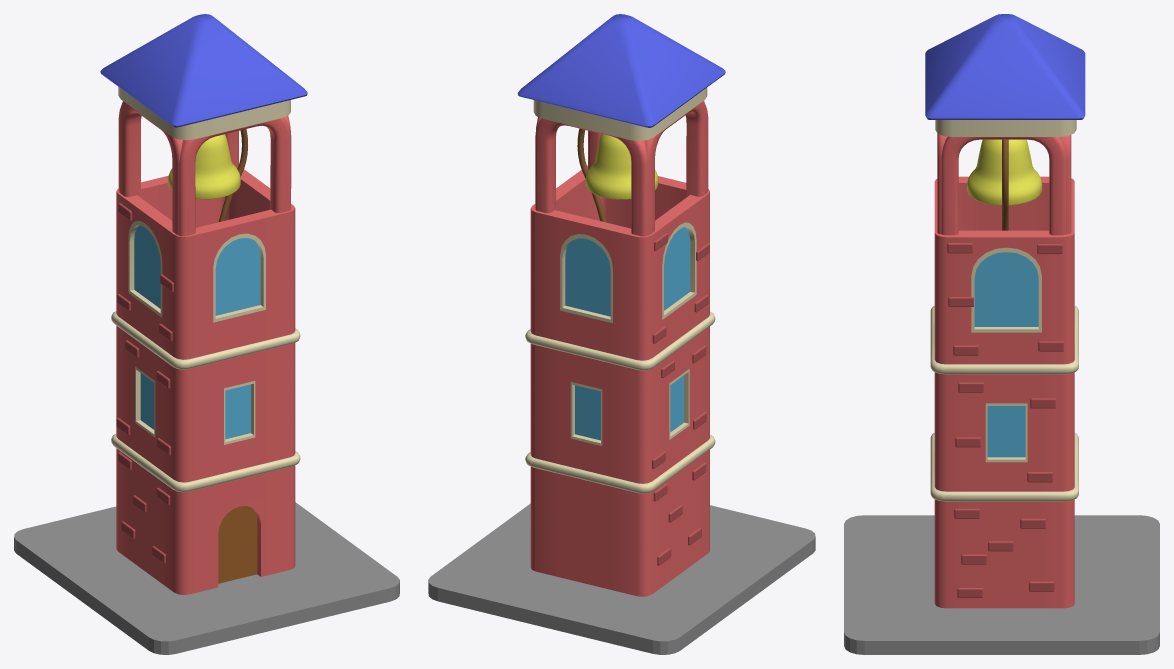
The model's file is bell tower with base.fbx.
3 views of the same model, side by side, from view 1: azimuth 30°, elevation 25°; view 2: azimuth 150°, elevation 25°; view 3: azimuth 270°, elevation 25° (orthographic). The views are drawn at different scales.
Visible parts, largest first — view 1: Cube.031, Cube.015; view 2: Cube.031, Cube.015; view 3: Cube.031, Cube.015, Cube.033.
Part boxes in pixels (x1=…): Cube.031: x1=14, y1=14, x2=399, y2=654; Cube.015: x1=168, y1=134, x2=240, y2=199; Cube.031: x1=428, y1=14, x2=815, y2=654; Cube.015: x1=585, y1=134, x2=658, y2=199; Cube.031: x1=844, y1=14, x2=1159, y2=654; Cube.015: x1=967, y1=139, x2=1042, y2=205; Cube.033: x1=1002, y1=139, x2=1008, y2=230.
Size of the model in its own units: 19202 by 40786 by 20383.
